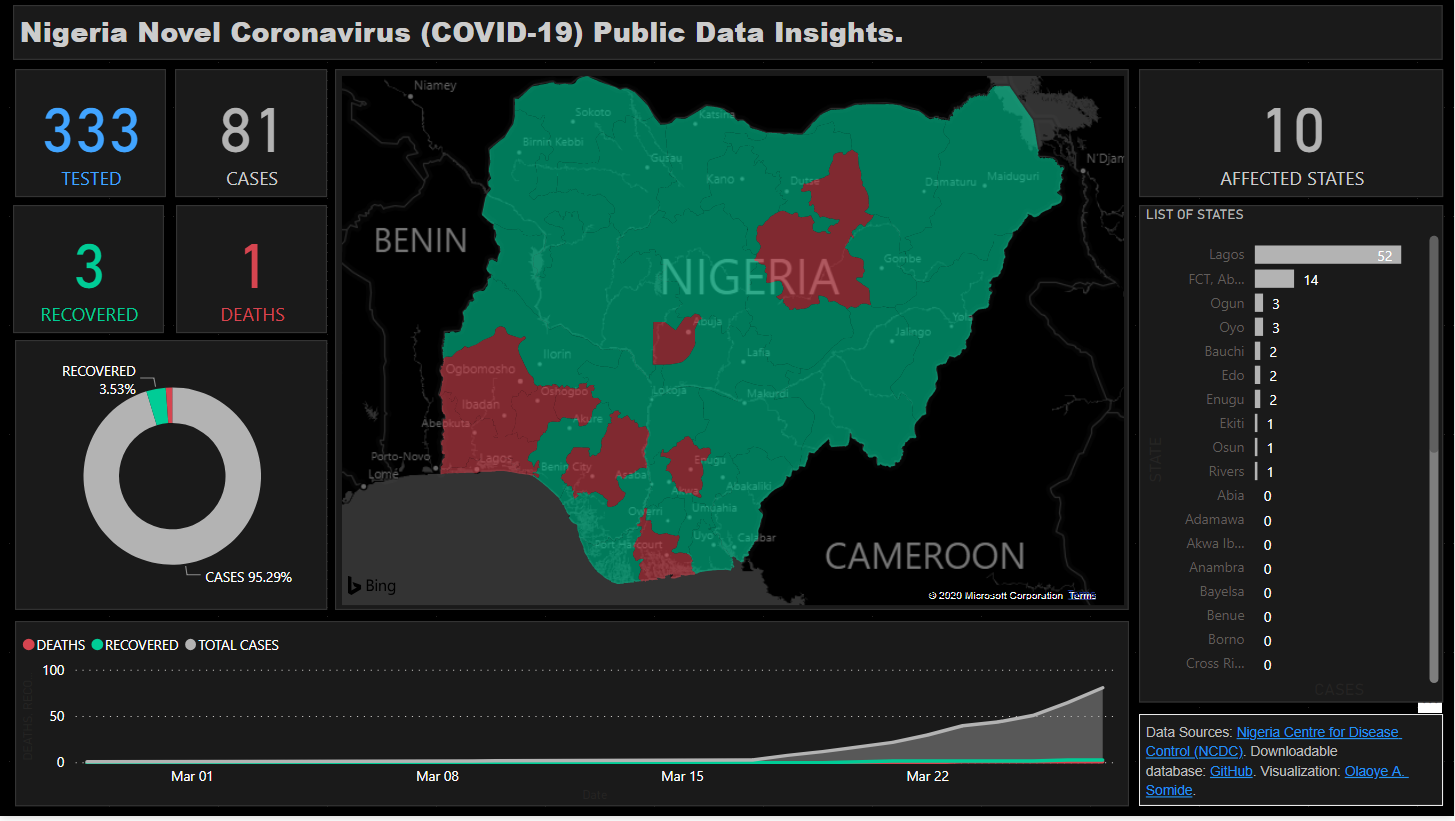

What the dashboard file says about the page in this screenshot:
{"tool":"powerbi","page":{"name":"Data Insights","canvas":[1280,720],"ordinal":0},"visuals":[{"type":"filledMap","title":"MAP VIEW","fields":{"Category":["ncdc-covid19-states.ADMIN_NAME","ncdc-covid19-dailyupdates.Date"],"Series":["ncdc-covid19-states.CASES"]},"box":[286.3,62.2,700.4,472.8],"z":0},{"type":"donutChart","title":"CASES BY STATE","fields":{"Y":["Sum(ncdc-covid19-states.CASES)","Sum(ncdc-covid19-states.RECOVERED)","Sum(ncdc-covid19-states.DEATHS)"]},"box":[11.4,441.3,266.2,265.3],"z":1000},{"type":"areaChart","fields":{"Category":["ncdc-covid19-dailyupdates.Date"],"Y":["Sum(ncdc-covid19-dailyupdates.Deaths)","Sum(ncdc-covid19-dailyupdates.Recoveries)","Sum(ncdc-covid19-dailyupdates.Total Confirmed)"]},"box":[286.3,544.6,700.4,162],"z":2000},{"type":"card","fields":{"Values":["Sum(ncdc-covid19-states.CASES)"]},"box":[11.4,62.2,266.2,117.3],"z":3000},{"type":"textbox","box":[11.4,6.1,1250.2,48.2],"z":4000},{"type":"card","fields":{"Values":["Sum(ncdc-covid19-states.RECOVERED)"]},"box":[11.4,188.2,266.2,117.3],"z":6000},{"type":"card","fields":{"Values":["Sum(ncdc-covid19-states.DEATHS)"]},"box":[11.4,314.3,266.2,117.3],"z":7000},{"type":"textbox","box":[995.5,658.4,266.2,48.2],"z":8000},{"type":"barChart","title":"LIST OF STATES","fields":{"Category":["ncdc-covid19-states.STATE"],"Y":["Sum(ncdc-covid19-states.CASES)"]},"box":[995.8,62.1,265.8,589.3],"z":9000}]}

Visuals, with their boxes in screenshot pixels (x1, y1, x2, y2), scaled from the page's 1280x720 canvas onto the 1455x821 screenshot:
"MAP VIEW" filledMap: 325 71 1122 610
"CASES BY STATE" donutChart: 13 503 316 806
areaChart - ncdc-covid19-dailyupdates.Date x Sum(ncdc-covid19-dailyupdates.Deaths): 325 621 1122 806
card - Sum(ncdc-covid19-states.CASES): 13 71 316 205
textbox: 13 7 1434 62
card - Sum(ncdc-covid19-states.RECOVERED): 13 215 316 348
card - Sum(ncdc-covid19-states.DEATHS): 13 358 316 492
textbox: 1132 751 1434 806
"LIST OF STATES" barChart: 1132 71 1434 743
